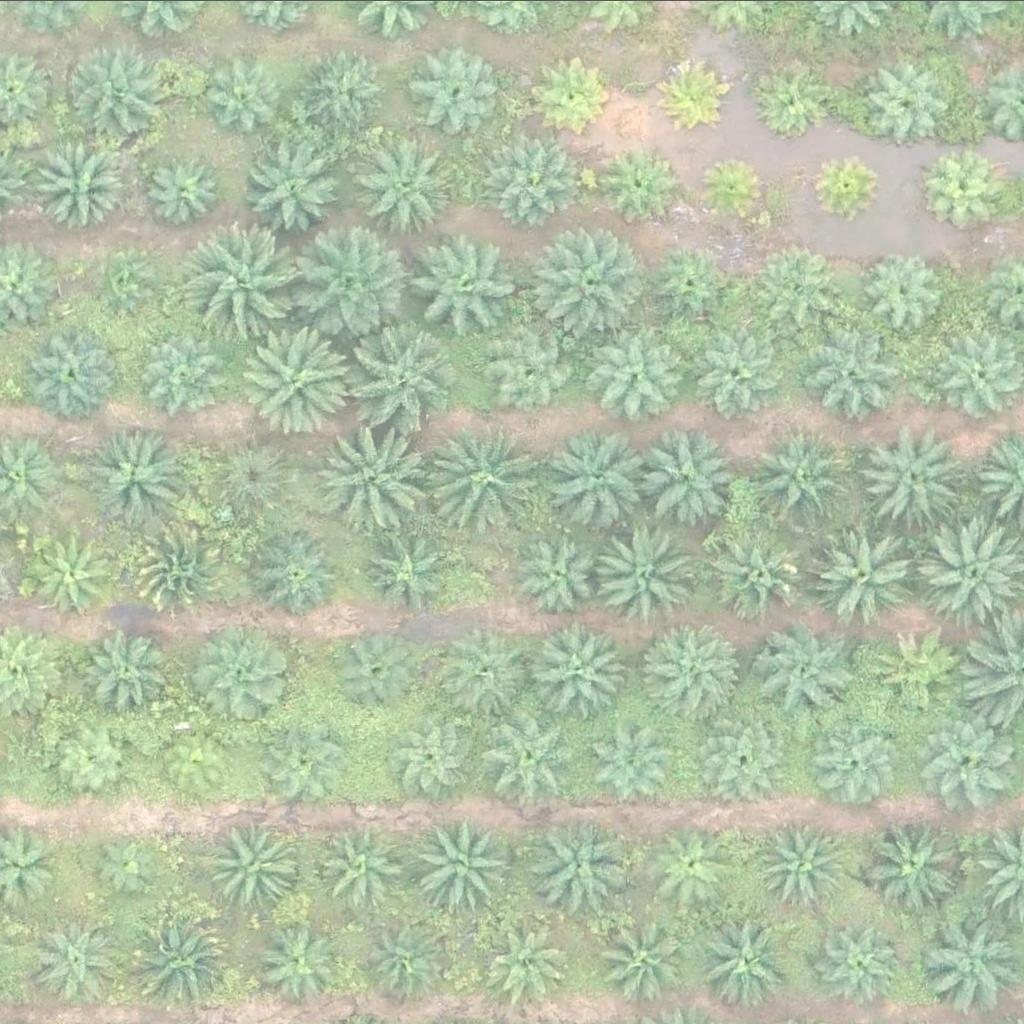Kelapa_Sawit: (321, 422, 435, 535), (298, 227, 411, 340), (408, 226, 521, 339), (531, 225, 644, 338), (344, 316, 457, 429), (240, 320, 353, 433), (435, 426, 548, 539), (188, 221, 302, 333), (859, 426, 960, 526), (64, 46, 165, 146), (352, 137, 453, 237), (24, 319, 125, 419), (81, 427, 182, 527), (551, 430, 652, 530), (634, 425, 735, 525), (807, 525, 908, 625), (751, 426, 852, 526), (803, 319, 904, 419), (599, 523, 700, 623), (636, 619, 737, 719), (527, 814, 628, 914), (693, 912, 794, 1012), (131, 907, 232, 1007), (866, 814, 966, 914), (919, 907, 1019, 1007), (31, 132, 131, 232), (247, 138, 347, 238), (193, 623, 293, 723), (128, 514, 228, 614), (754, 618, 854, 718), (482, 702, 582, 802), (201, 813, 301, 913), (410, 813, 510, 913), (595, 905, 695, 1005), (810, 722, 899, 810), (866, 62, 954, 150), (646, 240, 734, 328), (764, 240, 852, 328), (197, 49, 285, 137), (214, 437, 302, 525), (330, 625, 418, 713), (360, 532, 448, 620), (602, 330, 690, 418), (694, 329, 782, 417), (145, 328, 233, 416), (30, 532, 118, 620), (253, 527, 341, 615), (510, 527, 598, 615), (392, 711, 480, 799), (595, 719, 683, 807), (699, 715, 787, 803), (257, 921, 345, 1009), (762, 813, 850, 901), (817, 922, 905, 1010), (481, 916, 569, 1004), (51, 714, 139, 802), (862, 245, 950, 332), (915, 716, 1003, 803), (302, 47, 390, 134), (482, 137, 570, 224), (413, 50, 501, 137), (491, 325, 579, 412), (716, 533, 804, 620), (81, 633, 169, 720), (439, 627, 527, 714), (263, 719, 351, 806), (540, 624, 628, 711), (311, 817, 399, 904), (649, 820, 737, 907), (360, 911, 448, 998), (28, 911, 116, 998), (164, 723, 252, 810), (876, 625, 964, 712), (147, 152, 223, 227), (752, 68, 828, 143), (932, 151, 1008, 226), (805, 146, 881, 221), (656, 53, 732, 128), (88, 826, 163, 901), (598, 143, 673, 218), (695, 151, 770, 226), (534, 53, 609, 128), (91, 254, 154, 316)
